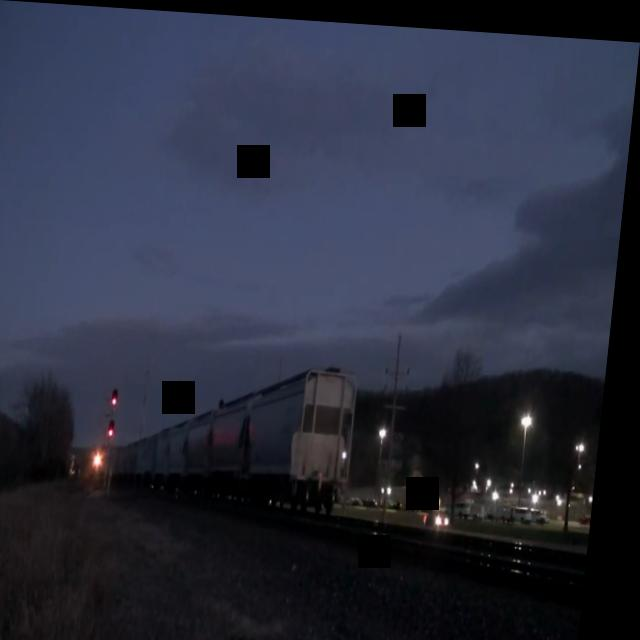hopper: (245, 336, 379, 516)
